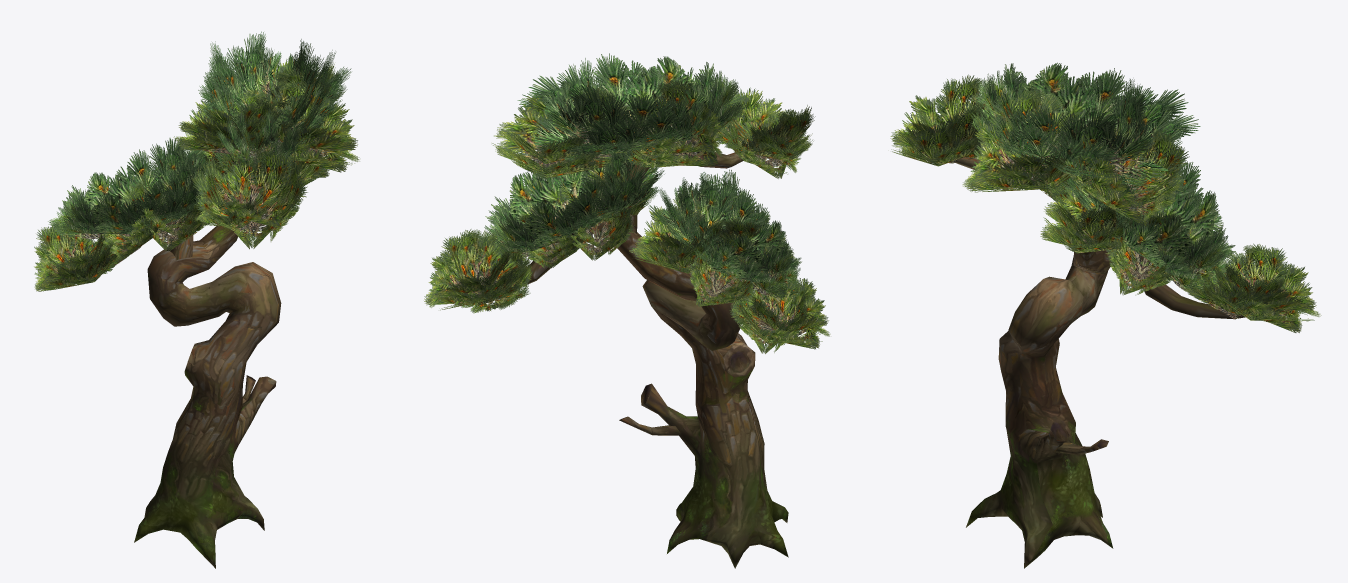
File: jintf_tree_01a.FBX
3 views of the same model, side by side, from view 1: azimuth 30°, elevation 25°; view 2: azimuth 150°, elevation 25°; view 3: azimuth 270°, elevation 25° (orthographic). The views are drawn at different scales.
Visible parts, largest first — view 1: jintf_tree_01a; view 2: jintf_tree_01a; view 3: jintf_tree_01a.
Boxes of the visible parts, x1,y1,x2,y2 form: jintf_tree_01a: (34, 31, 359, 568); jintf_tree_01a: (424, 53, 830, 568); jintf_tree_01a: (890, 62, 1321, 568).
Bounding box in the file's own units: 1348 × 1813 × 1423.
